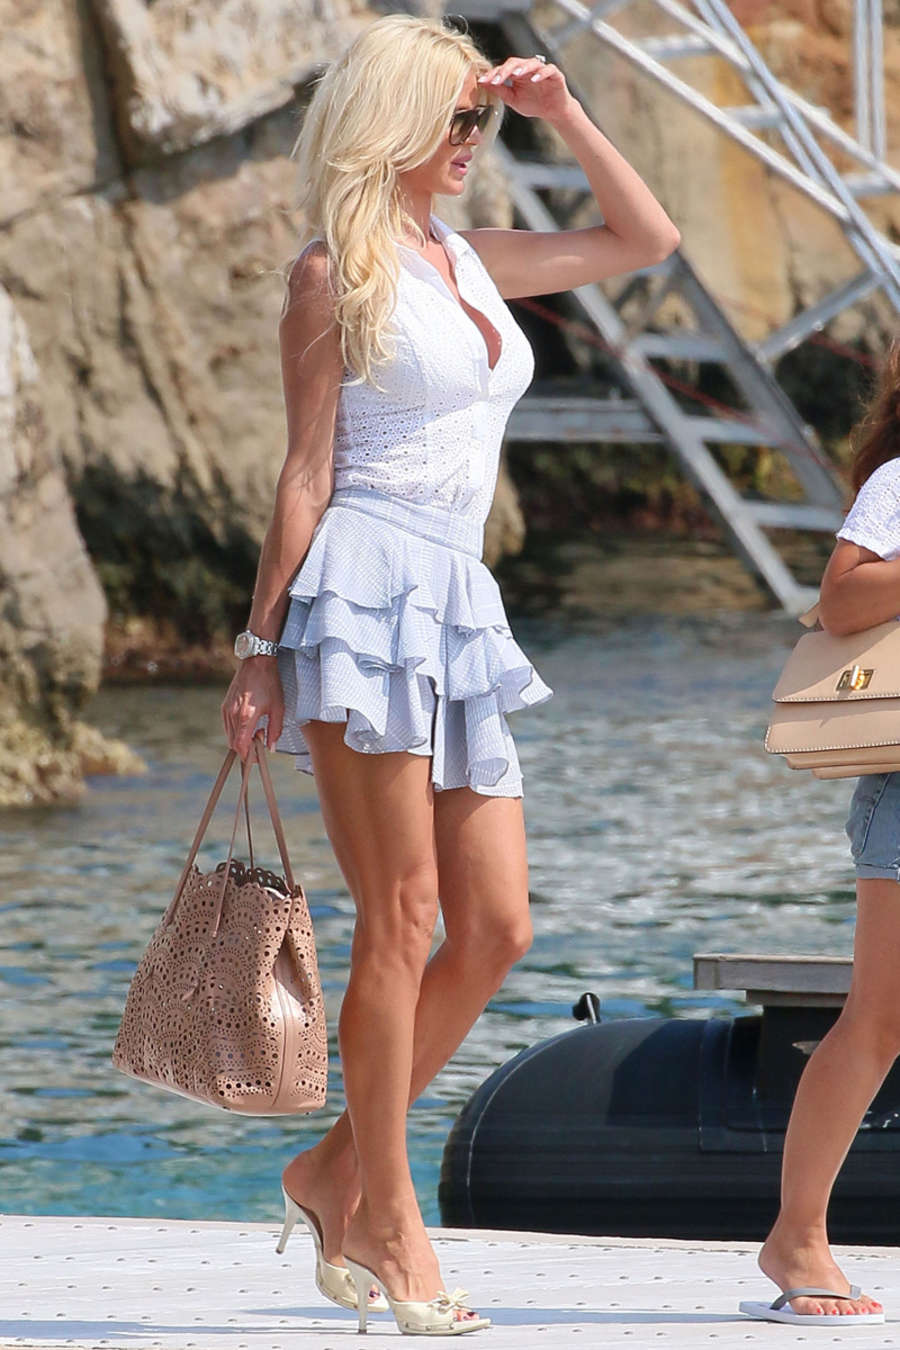Person: (218, 13, 692, 1342), (742, 329, 900, 1324), (742, 353, 900, 1333)
